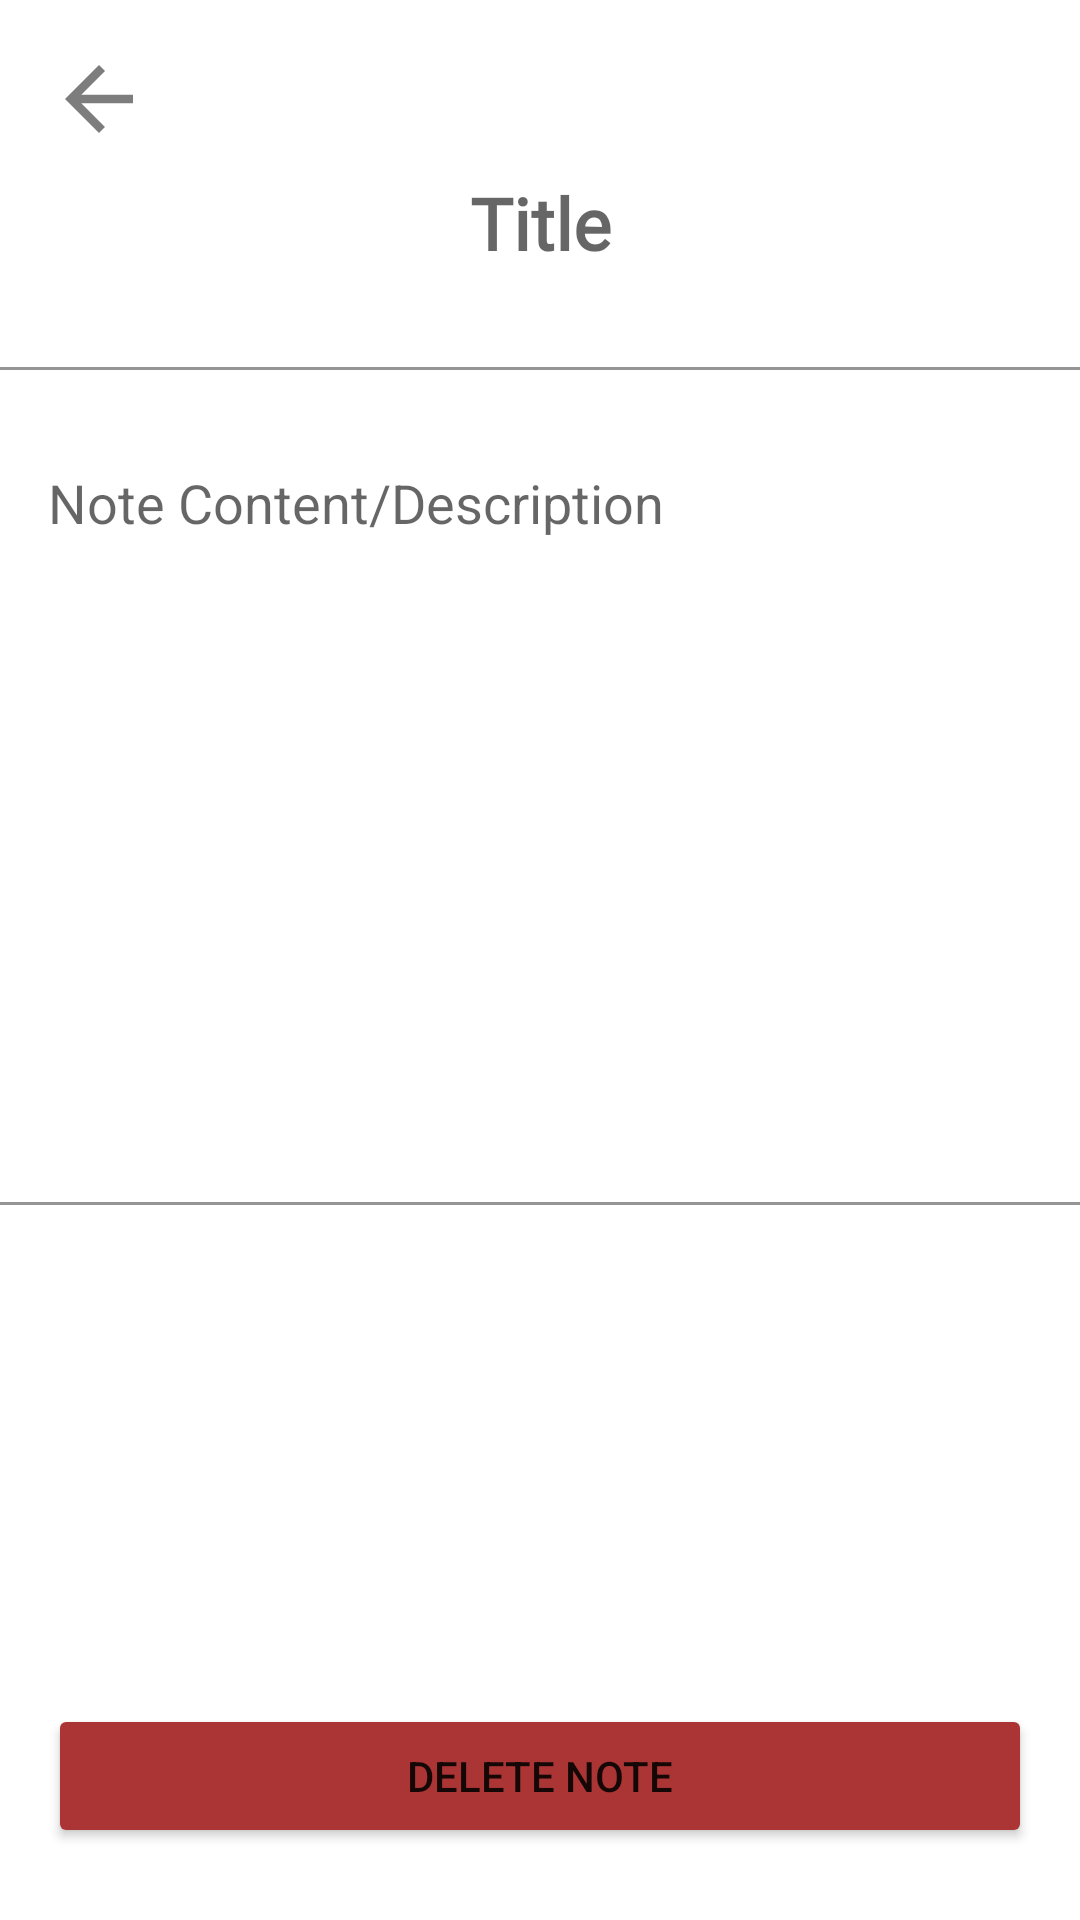

Screen size 1080px x 1920px. Icon name, then its box in pixels as {"x1": x1, "y1": y1, "x2": x2, "y2": y2}:
Go back and save changes: {"x1": 65, "y1": 65, "x2": 133, "y2": 133}
